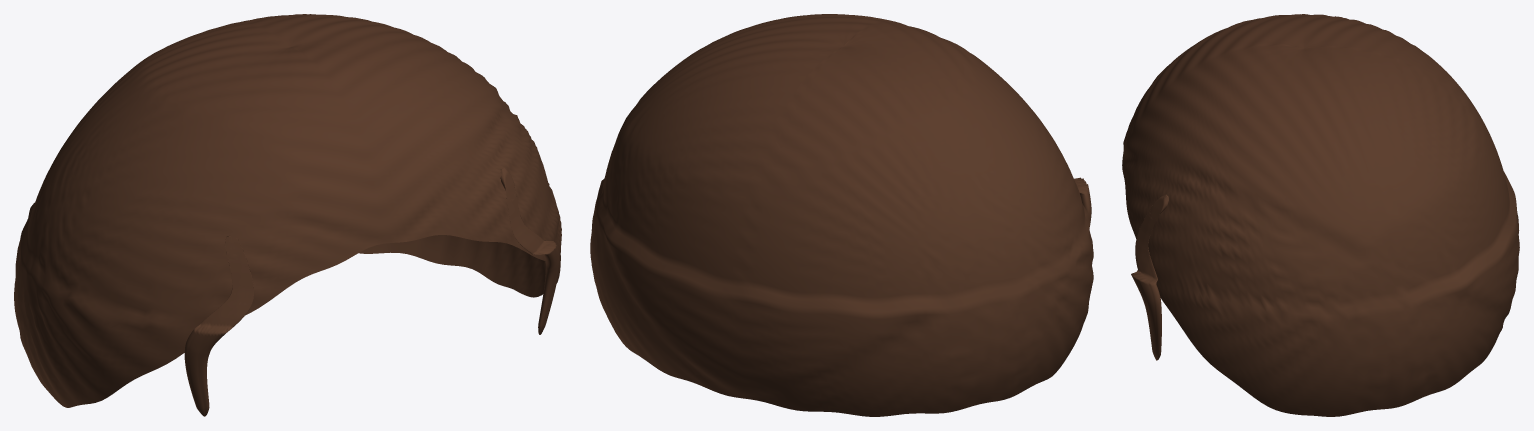
File: Highlights-5d248e8a44ab251-hair.glb
3 views of the same model, side by side, from view 1: azimuth 30°, elevation 25°; view 2: azimuth 150°, elevation 25°; view 3: azimuth 270°, elevation 25° (orthographic). The views are drawn at different scales.
Parts seen in each view (by area): view 1: 226 hair / Hair / chestnut226.002; view 2: 226 hair / Hair / chestnut226.002; view 3: 226 hair / Hair / chestnut226.002.
Part boxes in pixels (box(x1,y1,x2,y2)): 226 hair / Hair / chestnut226.002: box(14, 14, 561, 416); 226 hair / Hair / chestnut226.002: box(590, 14, 1093, 416); 226 hair / Hair / chestnut226.002: box(1122, 14, 1519, 416).
Size of the model in its own units: 0.9981 by 0.5988 by 0.7846.
